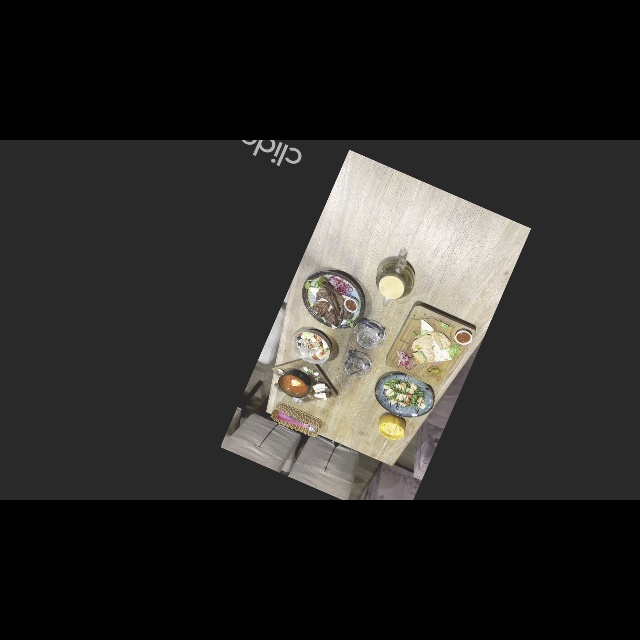Том ям: (263, 347, 346, 416)
графин с чаем: (366, 251, 422, 313)
закуска: (384, 300, 478, 394)
мясное блюдо: (292, 262, 375, 338)
салат: (368, 364, 441, 427)
салат цезарь: (286, 323, 337, 369)
суп сырный: (374, 410, 410, 443)
